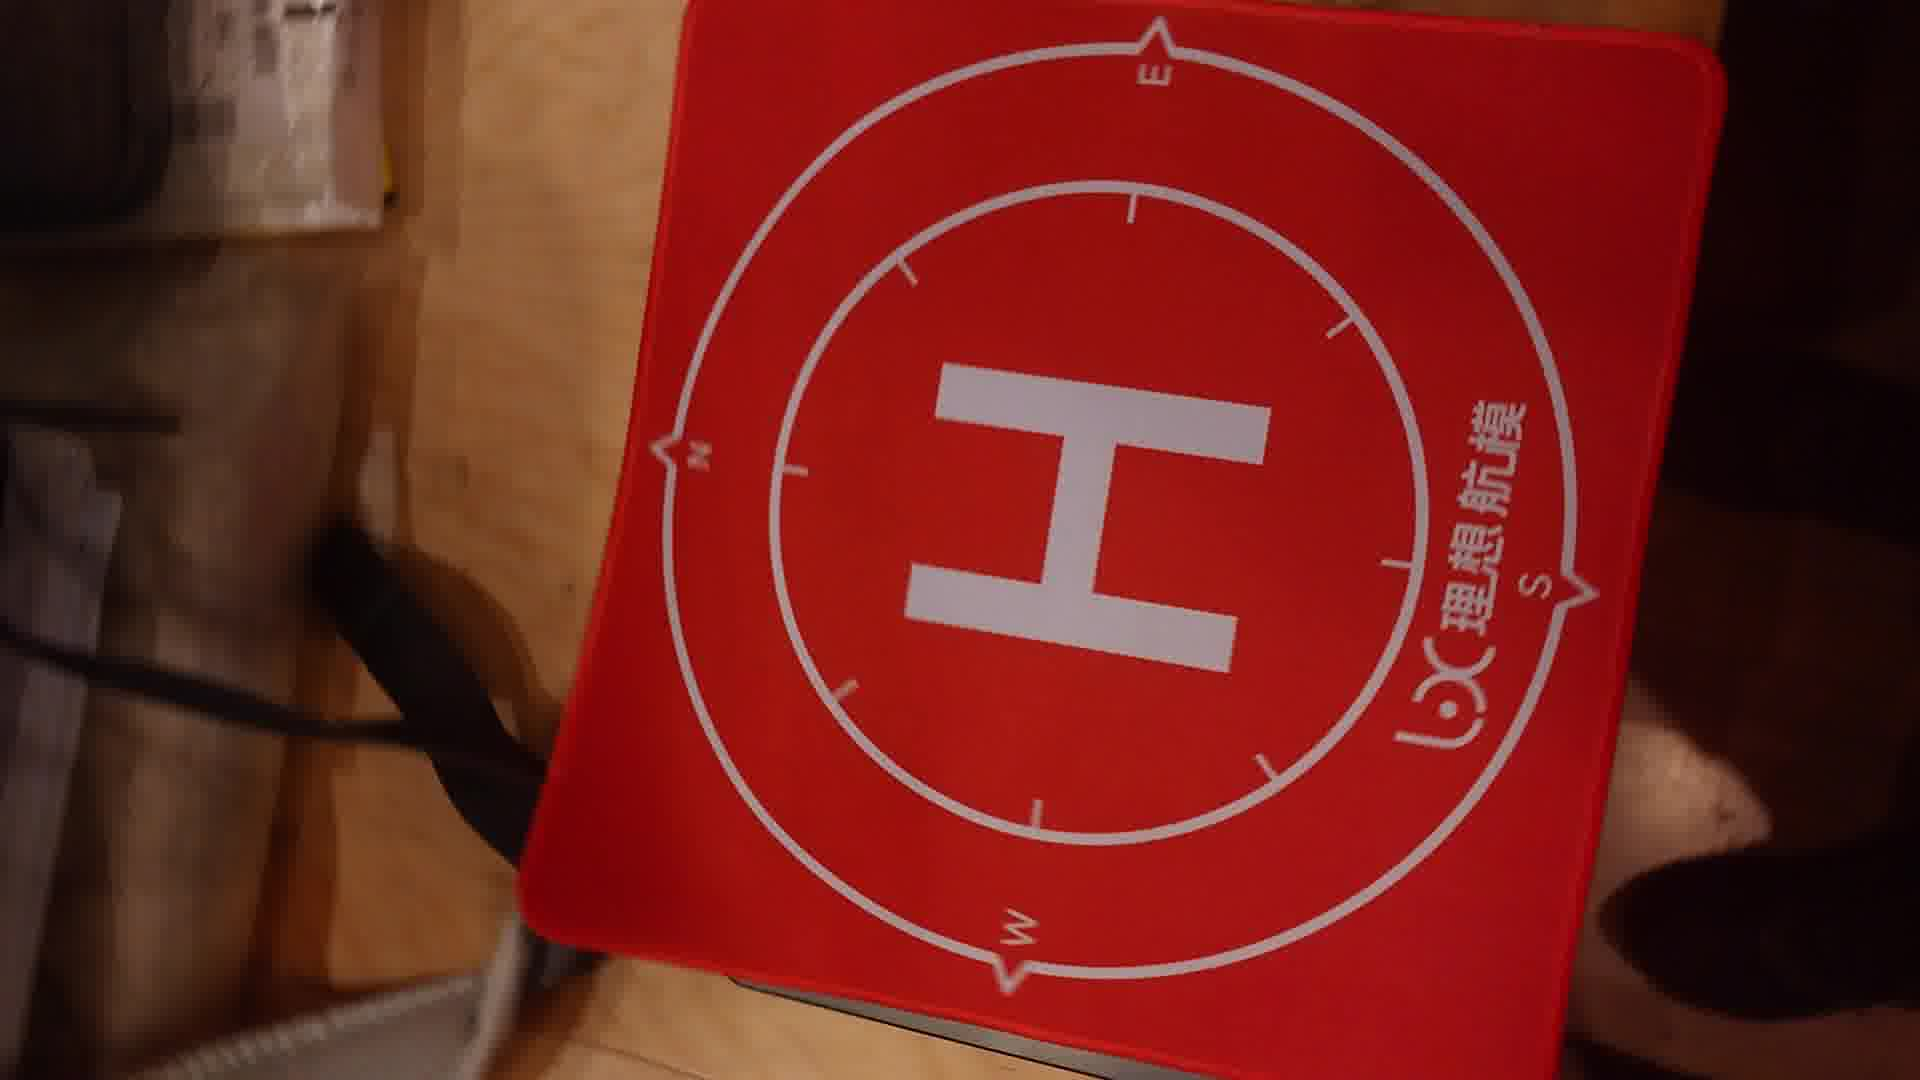H: (906, 355, 1276, 680)
